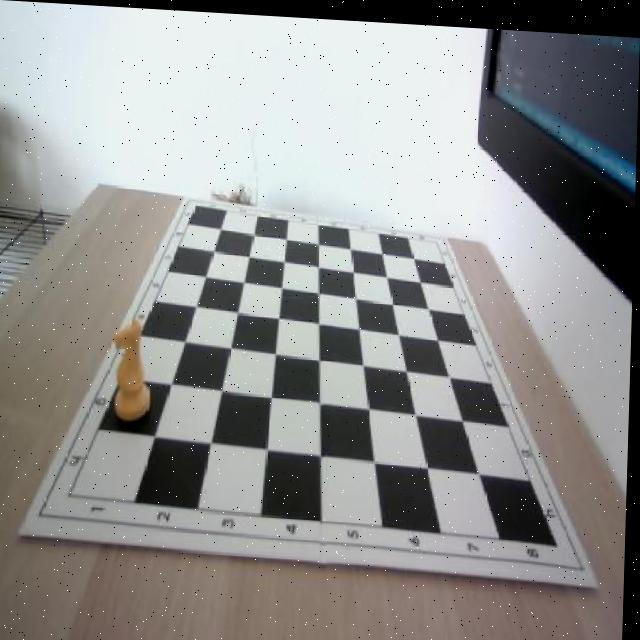white-king: (112, 316, 155, 421)
